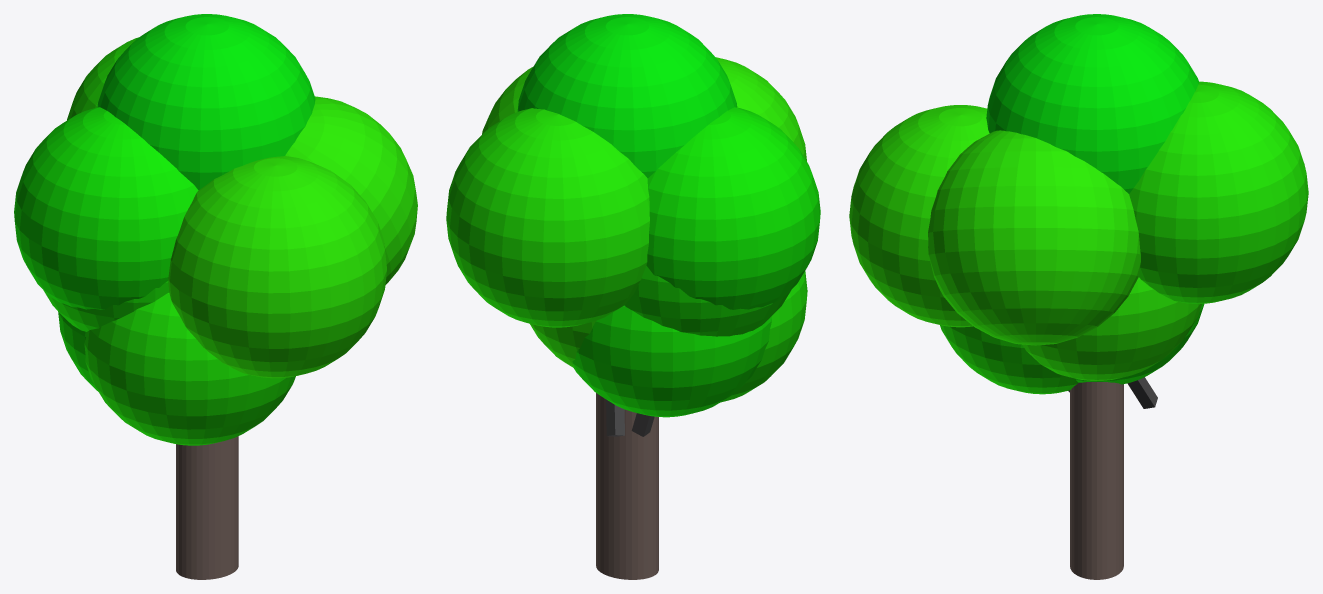
The model's file is tree.fbx.
The picture shows the model from 3 angles, left to right: view 1: azimuth 30°, elevation 25°; view 2: azimuth 150°, elevation 25°; view 3: azimuth 270°, elevation 25°; orthographic projection.
Visible parts, largest first — view 1: Sphere.008, Sphere.006, Sphere, Sphere.009, Sphere.001, Cylinder, Sphere.004, Sphere.003, Sphere.007; view 2: Sphere.003, Sphere.006, Sphere, Sphere.007, Cylinder, Sphere.004, Sphere.008, Sphere.009, Sphere.002, Sphere.001, Cube.001; view 3: Sphere.001, Sphere.003, Sphere, Sphere.008, Cylinder, Sphere.002, Sphere.009, Sphere.007.
Part boxes in pixels (bbox=[...]): Sphere.008: bbox=[168, 156, 386, 378]; Sphere.006: bbox=[14, 107, 198, 309]; Sphere: bbox=[97, 14, 315, 190]; Sphere.009: bbox=[84, 293, 295, 445]; Sphere.001: bbox=[285, 96, 417, 285]; Cylinder: bbox=[176, 436, 238, 579]; Sphere.004: bbox=[43, 281, 169, 331]; Sphere.003: bbox=[67, 37, 138, 120]; Sphere.007: bbox=[58, 311, 98, 391]; Sphere.003: bbox=[446, 108, 649, 327]; Sphere.006: bbox=[646, 107, 820, 309]; Sphere: bbox=[517, 14, 737, 178]; Sphere.007: bbox=[572, 305, 771, 417]; Cylinder: bbox=[596, 393, 658, 579]; Sphere.004: bbox=[624, 266, 791, 336]; Sphere.008: bbox=[715, 57, 806, 161]; Sphere.009: bbox=[721, 271, 807, 402]; Sphere.002: bbox=[530, 320, 596, 367]; Sphere.001: bbox=[482, 67, 532, 134]; Cube.001: bbox=[606, 399, 624, 436]; Sphere.001: bbox=[928, 130, 1140, 345]; Sphere.003: bbox=[1129, 81, 1308, 303]; Sphere: bbox=[986, 14, 1198, 193]; Sphere.008: bbox=[849, 105, 989, 327]; Cylinder: bbox=[1070, 382, 1123, 579]; Sphere.002: bbox=[1022, 277, 1201, 380]; Sphere.009: bbox=[940, 325, 1078, 394]; Sphere.007: bbox=[1076, 303, 1204, 384].
Bounding box in the file's own units: 355 × 537 × 413.
